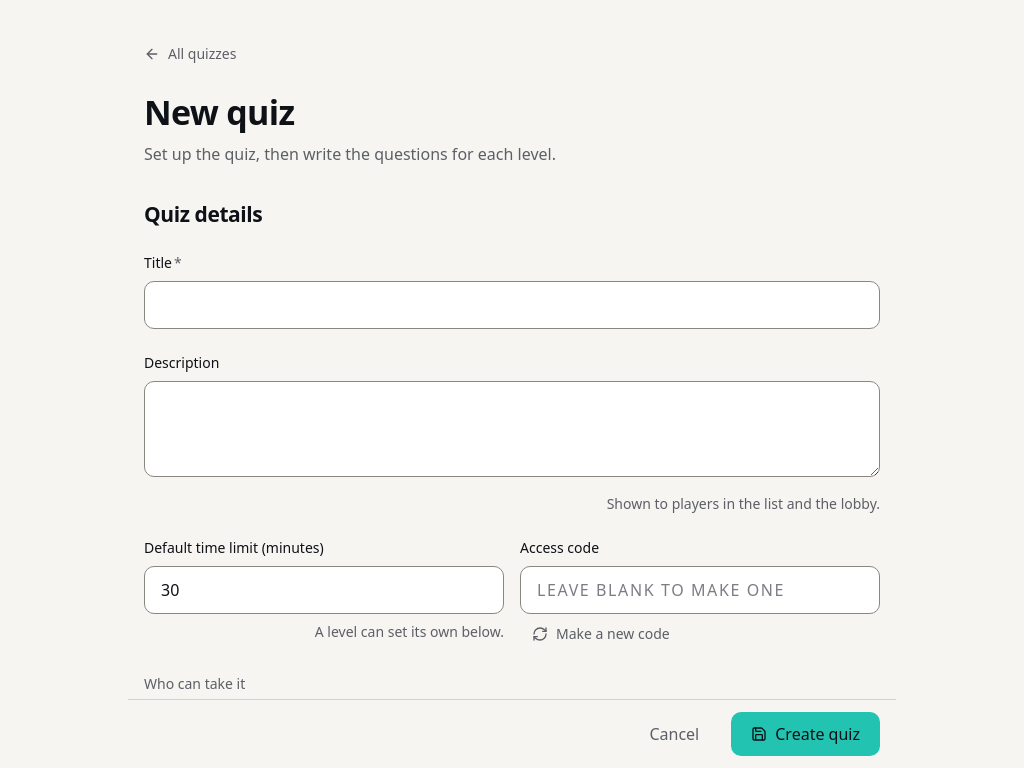
Scenario: creating a quiz › refuses an empty quiz, in words, and sends nothing
Click the button "Create quiz": (806, 734) x1=731 y1=712 x2=880 y2=756
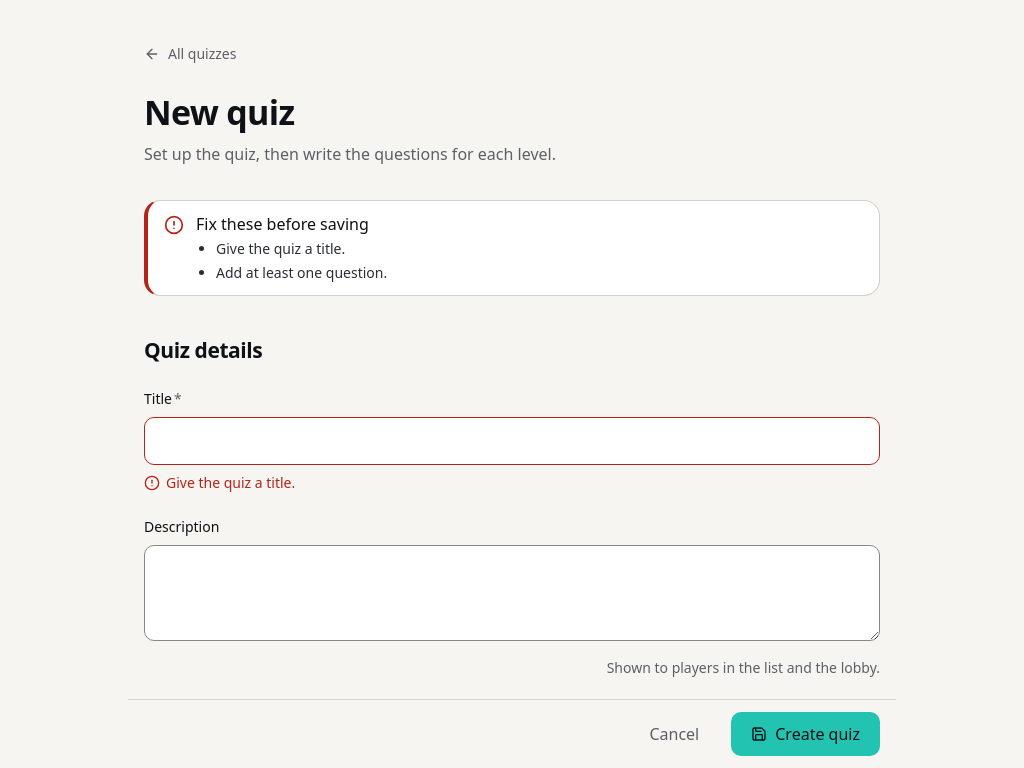
Check: the text "Fix these before saving" is shown, box x1=196 y1=213 x2=369 y2=235
Check: the list item "Give the quiz a title." is shown, box x1=216 y1=239 x2=345 y2=258
Check: the list item "Add at least one question." is shown, box x1=216 y1=263 x2=387 y2=282
